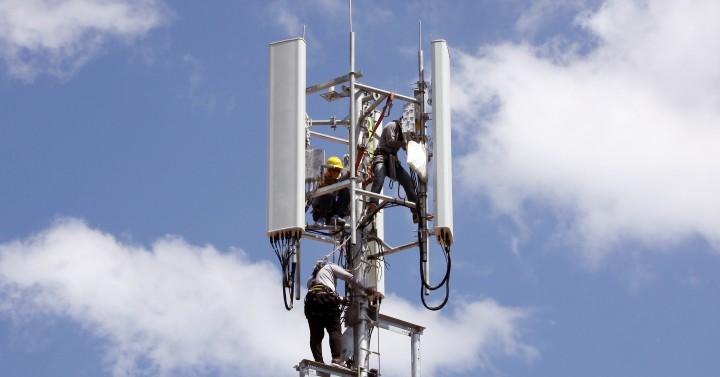antenna: (268, 35, 310, 241), (427, 30, 465, 249)
